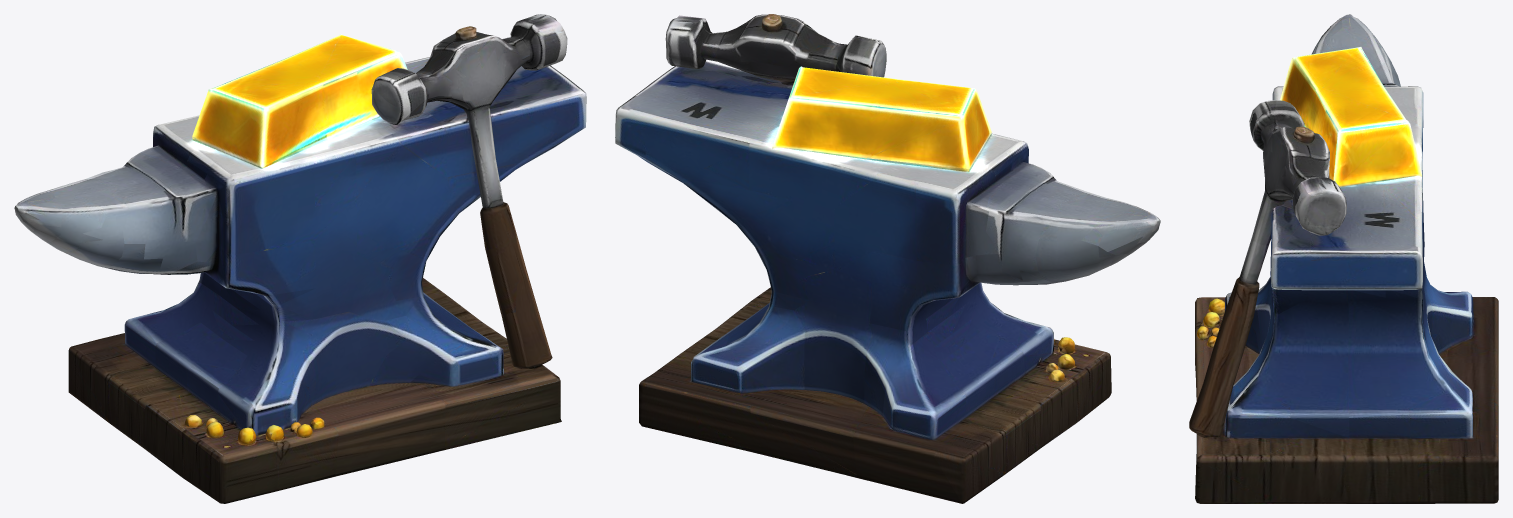
File: goldsmith.glb
The picture shows the model from 3 angles, left to right: view 1: azimuth 30°, elevation 25°; view 2: azimuth 150°, elevation 25°; view 3: azimuth 270°, elevation 25°; orthographic projection. The views are drawn at different scales.
Bounding box in the file's own units: 1 × 0.6582 × 0.5176.
Materials: 1 (1 with a texture image).
